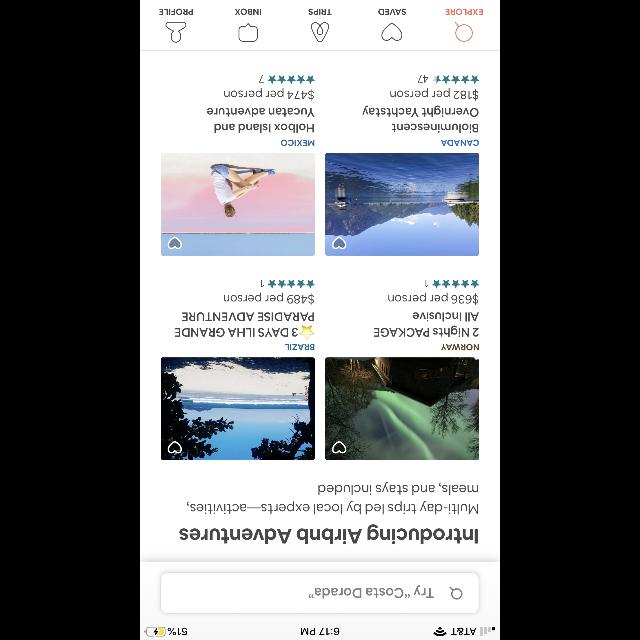icon: (166, 22, 187, 42), (268, 76, 314, 84), (432, 76, 478, 84), (268, 280, 314, 288), (432, 280, 478, 288), (238, 23, 258, 41), (311, 22, 329, 42), (382, 23, 402, 41), (454, 22, 472, 42), (300, 325, 314, 339), (168, 237, 182, 249), (332, 237, 346, 249), (168, 441, 182, 453), (332, 441, 346, 453), (450, 586, 462, 600)
image: (162, 153, 314, 255), (326, 153, 478, 255), (162, 357, 314, 459), (326, 357, 478, 459)
input: (161, 572, 479, 614)
text: (187, 482, 478, 514), (179, 524, 477, 544), (362, 106, 478, 132), (208, 108, 314, 132), (374, 313, 478, 337), (308, 586, 434, 598), (182, 312, 314, 322), (224, 292, 314, 306), (224, 88, 314, 100), (388, 293, 478, 305), (390, 88, 478, 100), (175, 328, 297, 336), (446, 9, 482, 15), (442, 140, 478, 146), (442, 344, 478, 350), (160, 9, 192, 15), (282, 140, 314, 146), (378, 9, 406, 15), (286, 344, 314, 350), (235, 9, 261, 15), (308, 9, 332, 15), (418, 76, 428, 82), (258, 76, 264, 82), (260, 280, 264, 286), (426, 280, 428, 286)
uppertaskbar: (140, 626, 500, 640)
